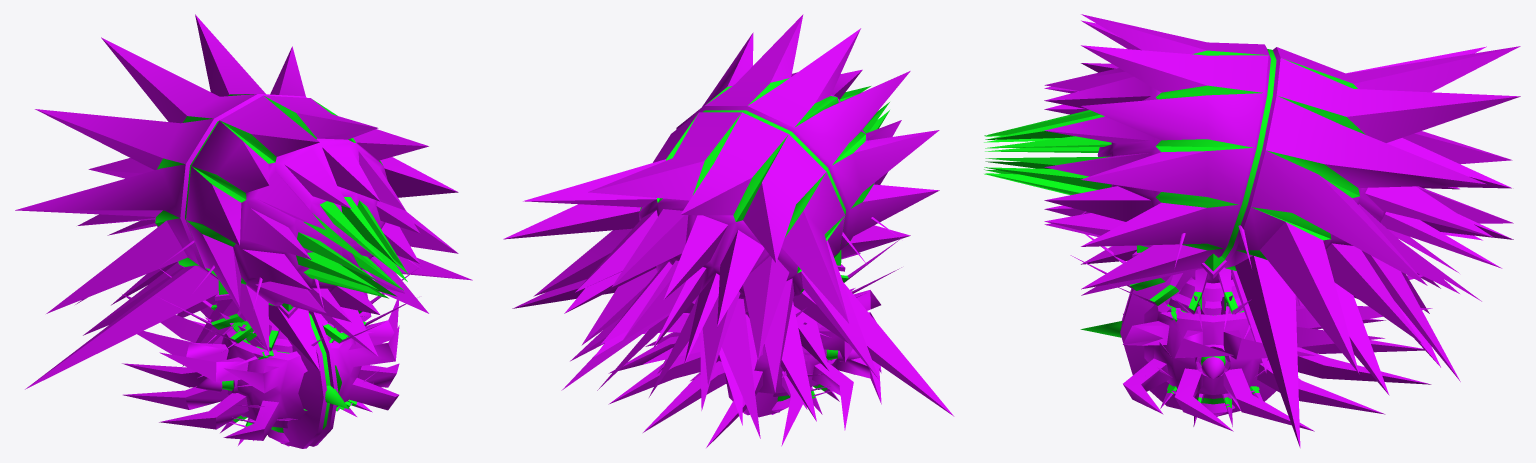
The model's file is ViralEnemiesV001.FBX.
3 views of the same model, side by side, from view 1: azimuth 30°, elevation 25°; view 2: azimuth 150°, elevation 25°; view 3: azimuth 270°, elevation 25° (orthographic). The views are drawn at different scales.
Parts seen in each view (by area): view 1: Sphere017, Sphere016, Sphere013, Object175, Sphere014; view 2: Sphere017, Sphere016, Sphere013, Object175; view 3: Sphere017, Sphere016, Sphere013, Object175.
Part boxes in pixels (left/top/right/bottom): Sphere017: left=15, top=14, right=472, bottom=389; Sphere016: left=122, top=292, right=399, bottom=446; Sphere013: left=196, top=311, right=376, bottom=448; Object175: left=158, top=240, right=419, bottom=351; Sphere014: left=198, top=315, right=379, bottom=427; Sphere017: left=503, top=14, right=954, bottom=438; Sphere016: left=608, top=290, right=881, bottom=447; Sphere013: left=690, top=288, right=859, bottom=417; Object175: left=745, top=217, right=901, bottom=316; Sphere017: left=984, top=14, right=1520, bottom=447; Sphere016: left=1080, top=274, right=1432, bottom=431; Sphere013: left=1120, top=275, right=1301, bottom=426; Object175: left=1070, top=211, right=1251, bottom=314.
Size of the model in its own units: 228 by 216 by 172.
